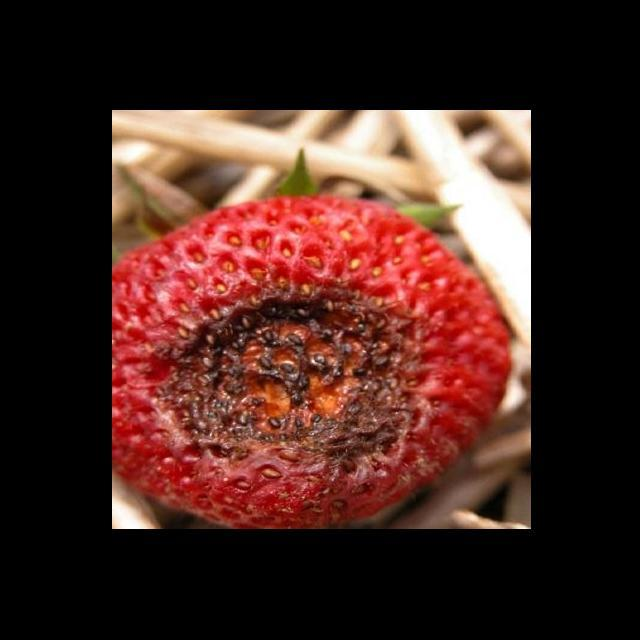Anthracnose Fruit Rot: (151, 267, 440, 498)
